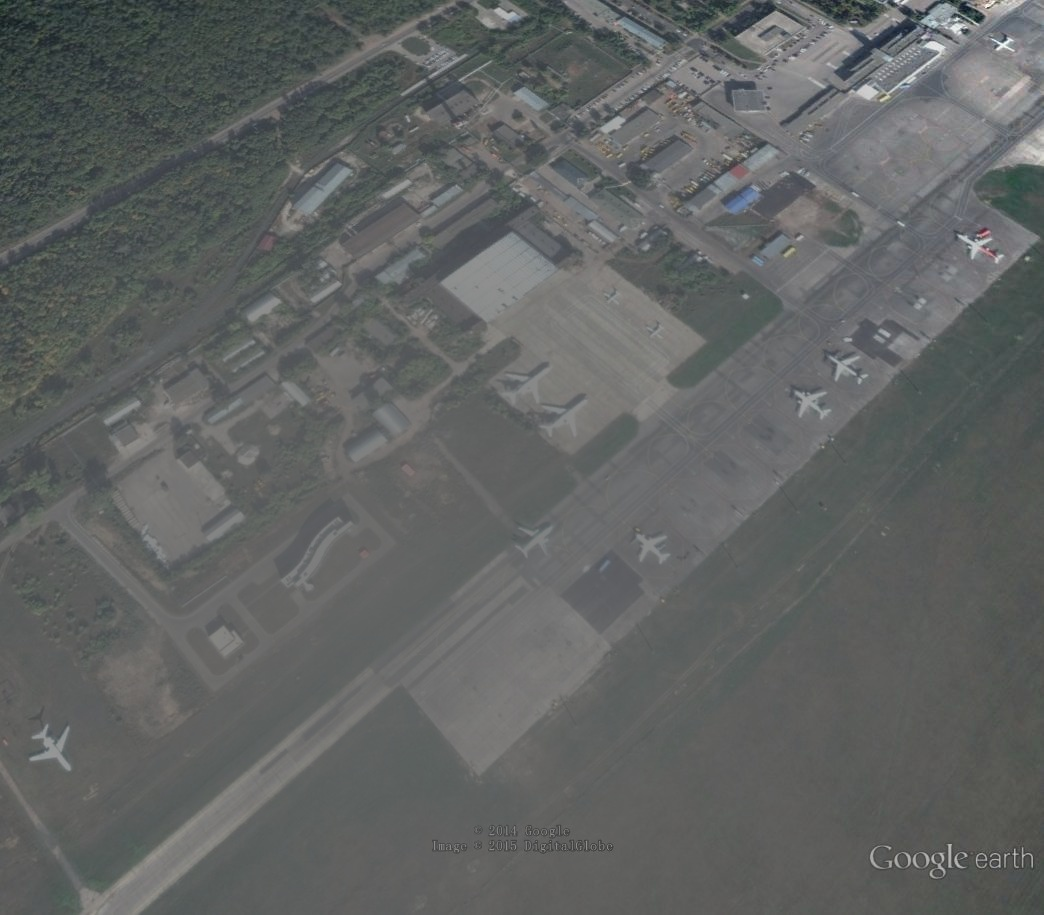aircraft: (497, 361, 553, 409), (28, 722, 77, 776), (536, 394, 592, 440), (953, 231, 1006, 268), (513, 520, 558, 562), (822, 352, 870, 388), (791, 388, 834, 422), (633, 532, 671, 567), (991, 35, 1019, 54), (643, 320, 667, 342), (601, 286, 624, 307)
